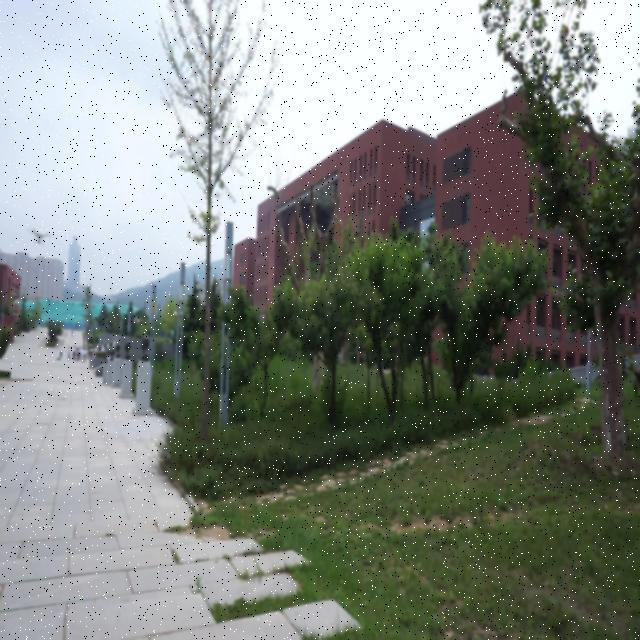UAV: (32, 228, 51, 247)
